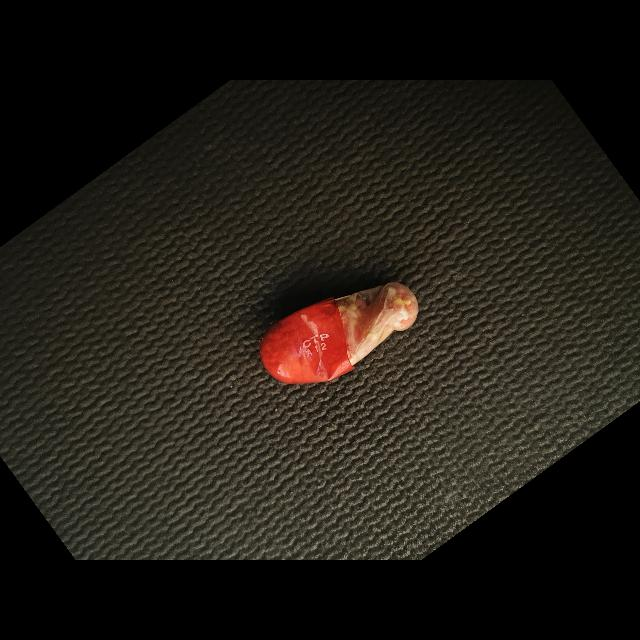Defective Capsule: (260, 282, 419, 384)
